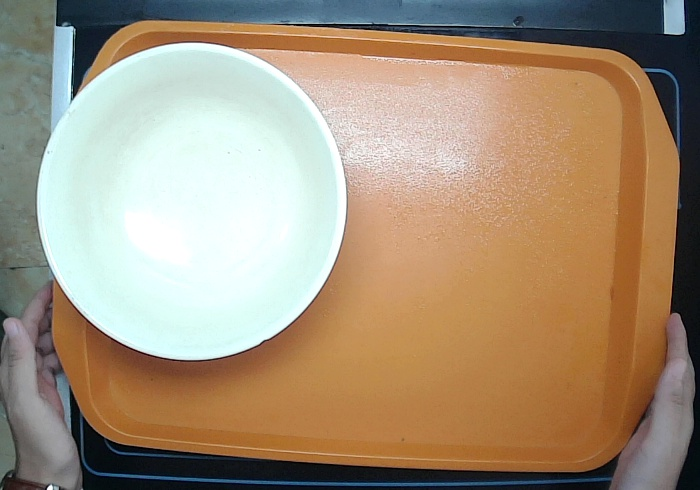ZNLD-Da_Tang_Wan: (33, 39, 350, 363)
